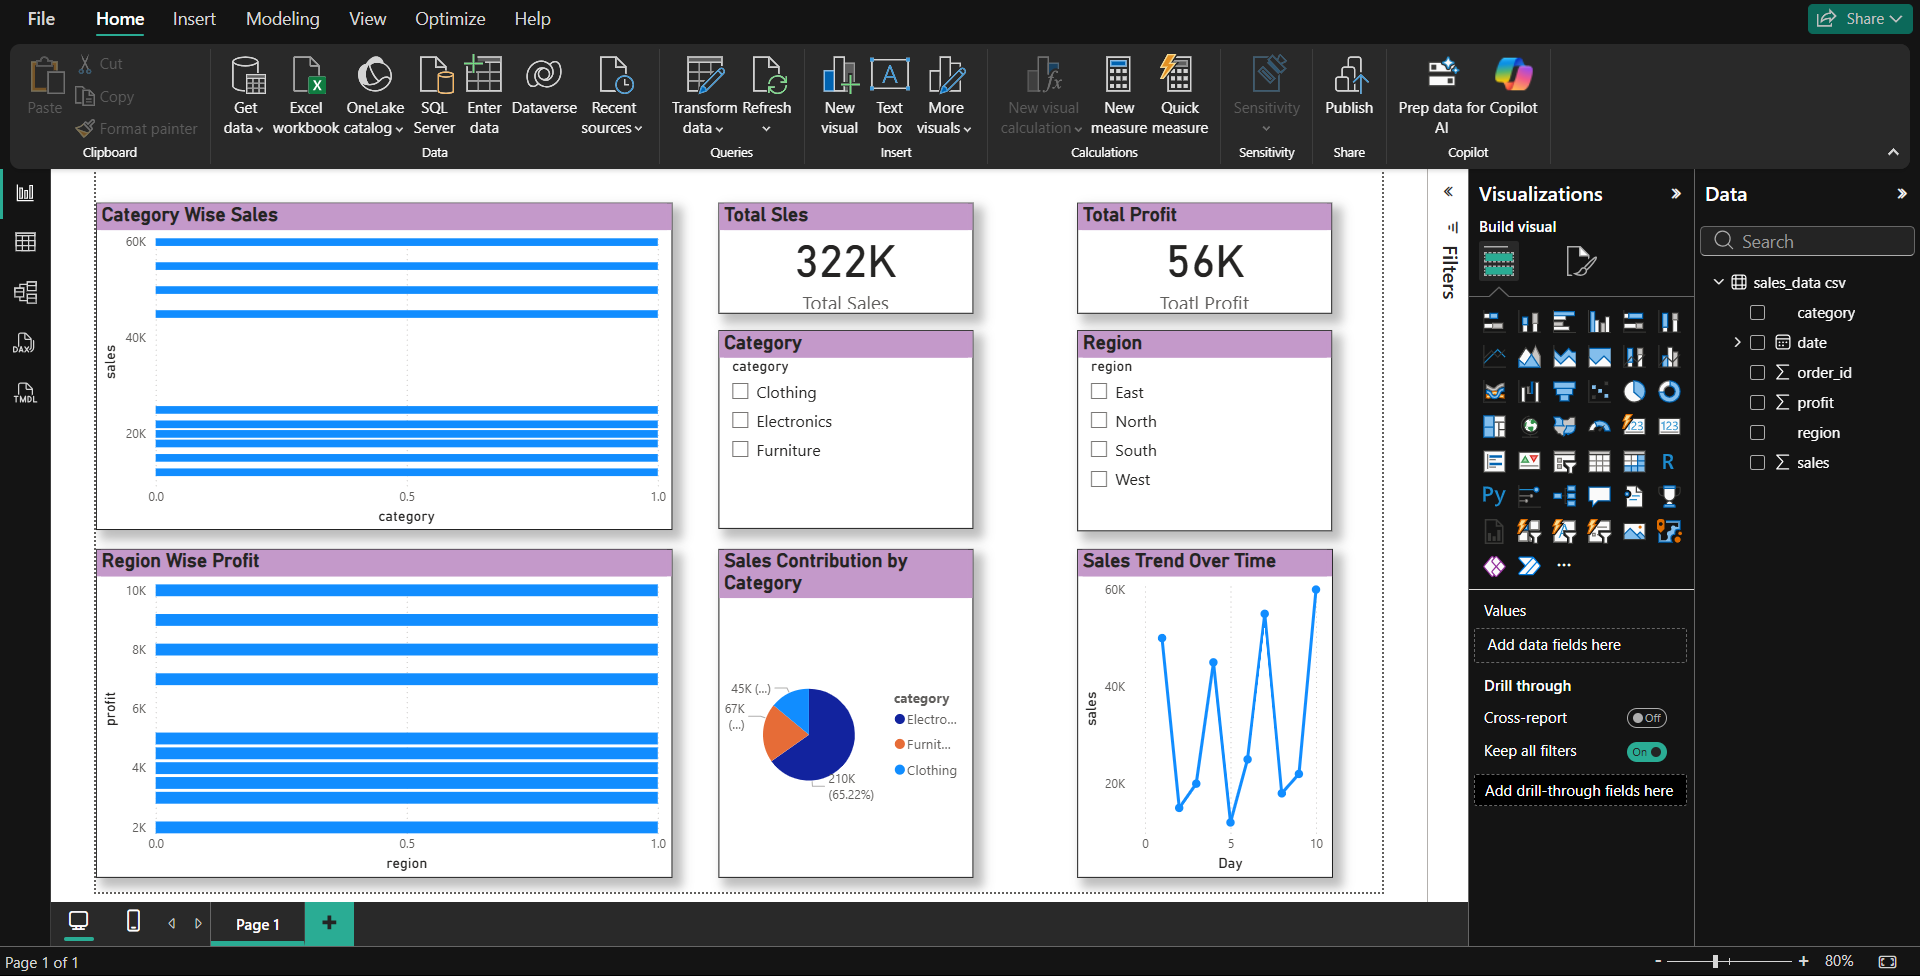

The dashboard page shown, as its layout file describes it:
{"tool":"powerbi","page":{"name":"Page 1","canvas":[1280,720],"ordinal":0},"visuals":[{"type":"barChart","title":"Category Wise Sales","fields":{"Y":["CountNonNull(sales_data csv.category)"],"Category":["sales_data csv.sales"]},"box":[0,33.6,573.5,325.9],"z":0},{"type":"barChart","title":"Region Wise Profit","fields":{"Y":["CountNonNull(sales_data csv.region)"],"Category":["sales_data csv.profit"]},"box":[0,378.2,573.5,327.2],"z":1000},{"type":"card","title":"Total Sles","fields":{"Values":["Sum(sales_data csv.sales)"]},"box":[619.5,33.6,253.8,110.7],"z":2000},{"type":"card","title":"Total Profit","fields":{"Values":["Sum(sales_data csv.profit)"]},"box":[976.5,33.6,253.8,110.7],"z":3000},{"type":"slicer","title":"Category","fields":{"Values":["sales_data csv.category"]},"box":[619.5,160.5,253.8,197.8],"z":4000},{"type":"slicer","title":"Region","fields":{"Values":["sales_data csv.region"]},"box":[976.5,160.5,253.8,200.3],"z":5000},{"type":"pieChart","title":"Sales Contribution by Category","fields":{"Category":["sales_data csv.category"],"Y":["Sum(sales_data csv.sales)"]},"box":[619.5,378.2,253.8,327.2],"z":6000},{"type":"lineChart","title":"Sales Trend Over Time","fields":{"Category":["sales_data csv.date.Variation.Date Hierarchy.Day"],"Y":["Sum(sales_data csv.sales)"]},"box":[977,378,254,327],"z":7000}]}

Visuals, with their boxes on the page's 1280x720 design canvas (x1, y1, x2, y2). These are canvas units, not pixel positions in the 1920x976 screenshot, which may show the page scaled, cropped or inside an application window:
"Category Wise Sales" barChart: x1=0 y1=34 x2=574 y2=360
"Region Wise Profit" barChart: x1=0 y1=378 x2=574 y2=705
"Total Sles" card: x1=620 y1=34 x2=873 y2=144
"Total Profit" card: x1=976 y1=34 x2=1230 y2=144
"Category" slicer: x1=620 y1=160 x2=873 y2=358
"Region" slicer: x1=976 y1=160 x2=1230 y2=361
"Sales Contribution by Category" pieChart: x1=620 y1=378 x2=873 y2=705
"Sales Trend Over Time" lineChart: x1=977 y1=378 x2=1231 y2=705
